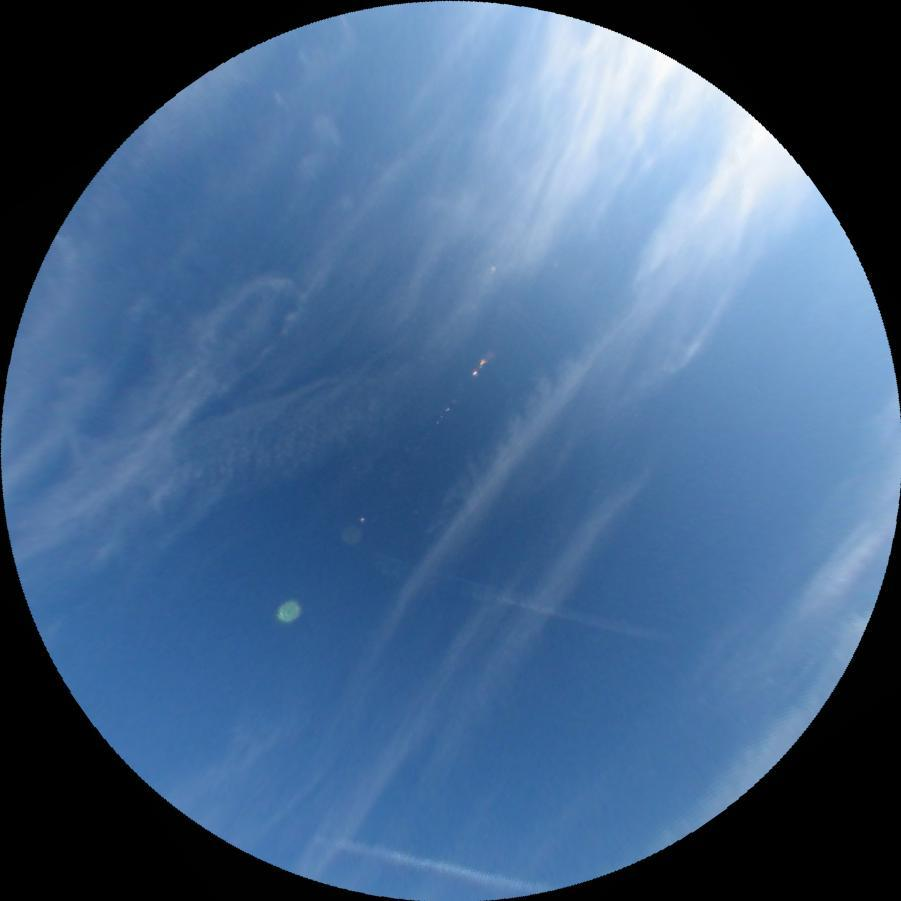contrail old: (318, 834, 556, 897)
contrail veryold: (364, 550, 666, 647)
